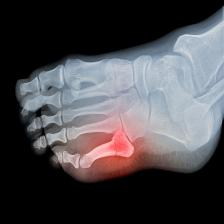stress-fracture: (12, 20, 220, 175)
